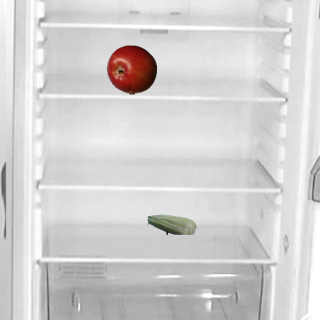Apple Braeburn: (106, 44, 156, 94)
Corn Husk: (146, 199, 196, 249)
